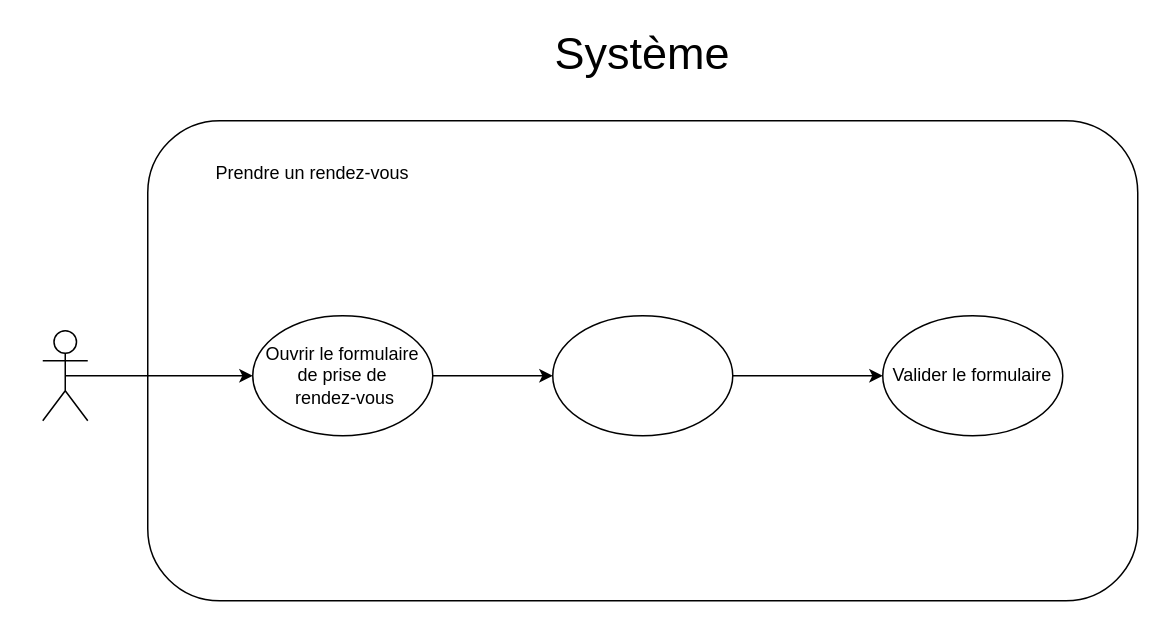
The diagram is 1164 pixels wide and 627 high, and some of its shapes have lost their labels. The shapes that lost their labels are listed below. From the top down, each one's centre as x and y in pixels, then its label:
At point 64,375: "Utilisateur".
At point 642,375: "Remplir le formulaire de prise de rendez-vous".
